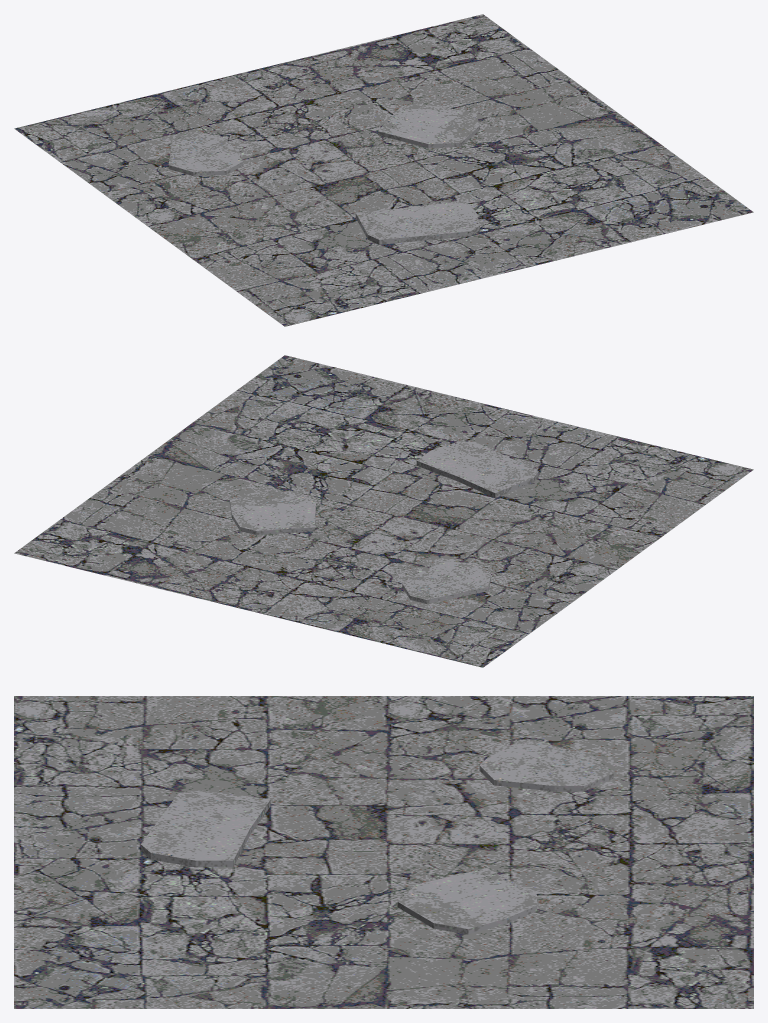
Rendered from ground_stone_pebbles_in_middle.glb.
The picture shows the model from 3 angles, top to bottom: view 1: azimuth 30°, elevation 25°; view 2: azimuth 150°, elevation 25°; view 3: azimuth 270°, elevation 25°; orthographic projection. The views are drawn at different scales.
Parts seen in each view (by area): view 1: Floor3; view 2: Floor3; view 3: Floor3.
Boxes of the visible parts, box(x1,y1,x2,y2) form: Floor3: box(14, 14, 753, 326); Floor3: box(14, 355, 753, 667); Floor3: box(14, 696, 753, 1008).
Bounding box in the file's own units: 4 × 0.0648 × 4.
2 materials, 2 textured.
